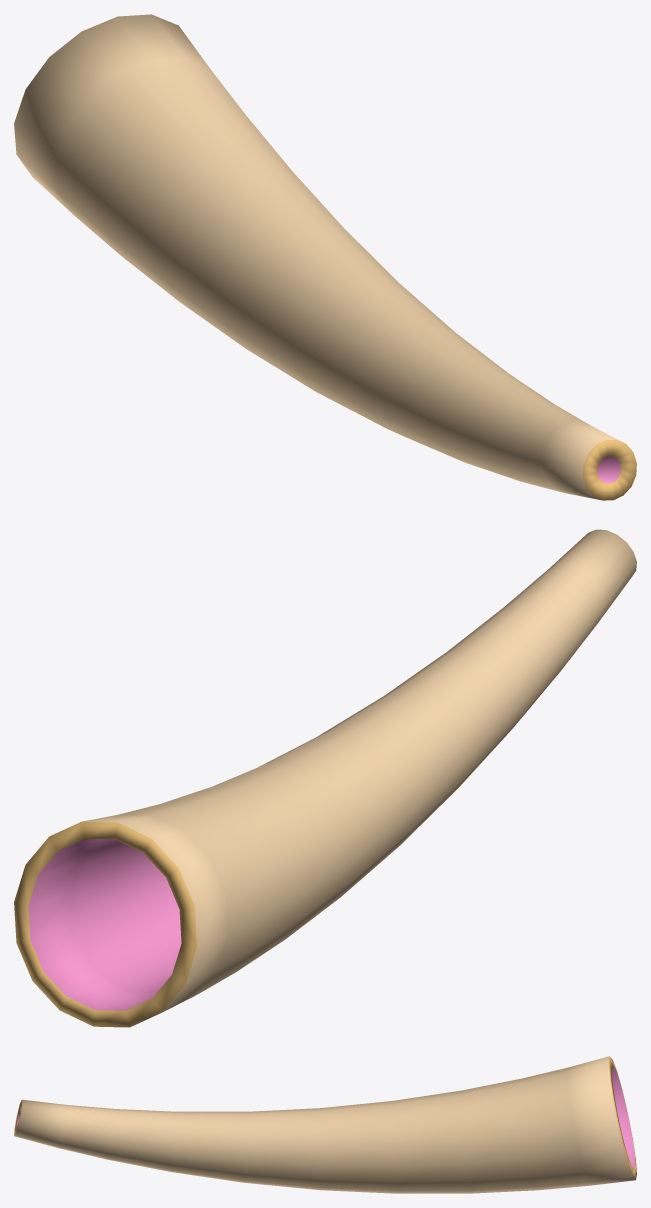
The model's file is seashell3.fbx.
3 renders of one model, top to bottom at view 1: azimuth 30°, elevation 25°; view 2: azimuth 150°, elevation 25°; view 3: azimuth 270°, elevation 25°, orthographic. The views are drawn at different scales.
Visible parts, largest first — view 1: seashell3; view 2: seashell3; view 3: seashell3.
Part boxes in pixels (x1=…): seashell3: x1=14, y1=14, x2=636, y2=500; seashell3: x1=14, y1=529, x2=636, y2=1027; seashell3: x1=14, y1=1056, x2=636, y2=1193.
Size of what is drawn, in the model's own units: 11.98 by 58.8 by 13.26.
